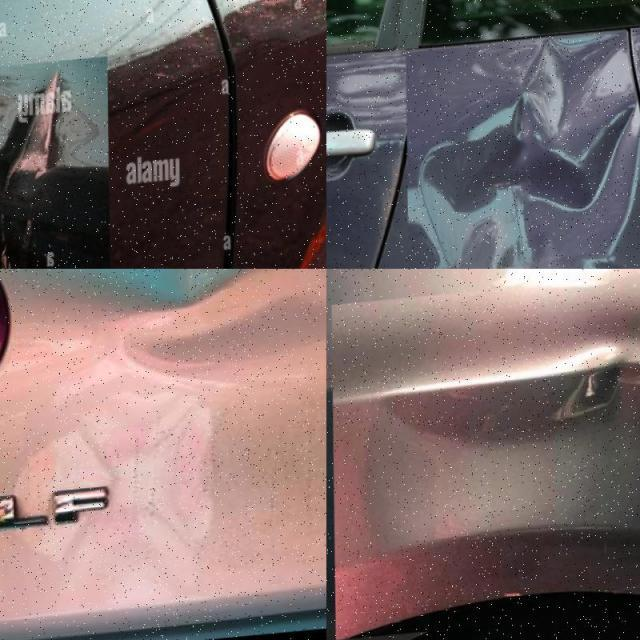car damage: (380, 337, 638, 536), (423, 42, 640, 269)
